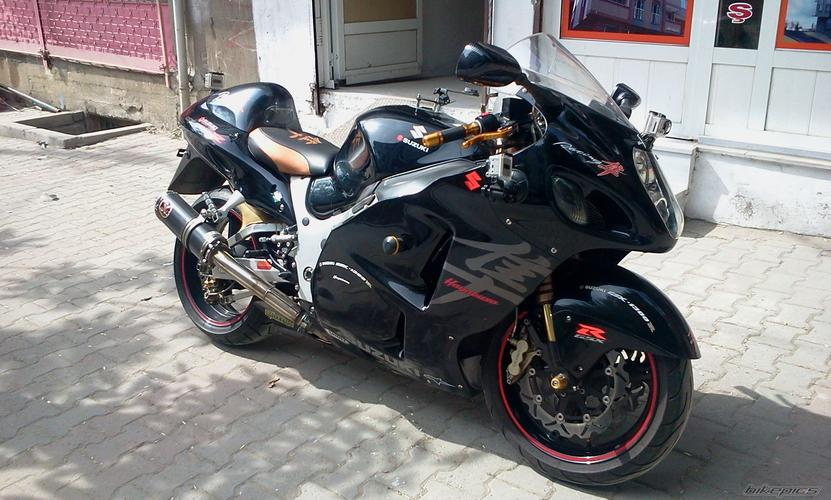摩托车: (161, 48, 701, 489)
